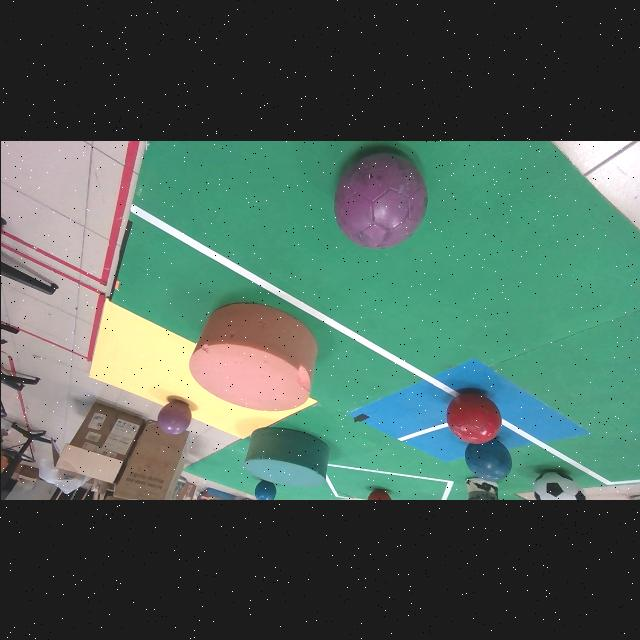B: (464, 439, 511, 481), (254, 480, 275, 500)
P: (334, 153, 426, 248), (157, 400, 190, 435)
R: (445, 391, 499, 444), (366, 489, 391, 500)
